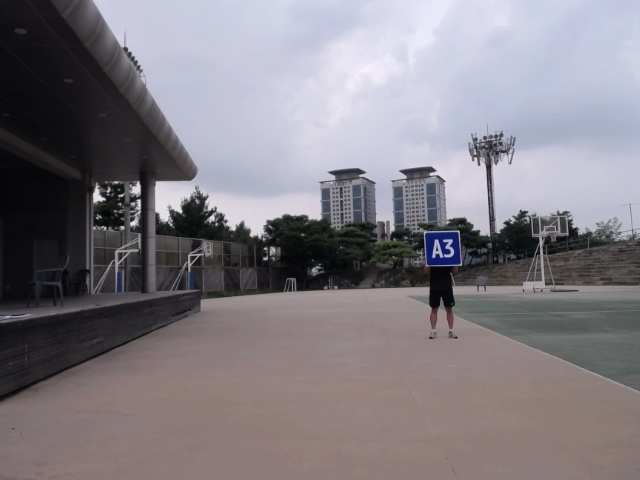delivery_a3: (424, 231, 462, 266)
